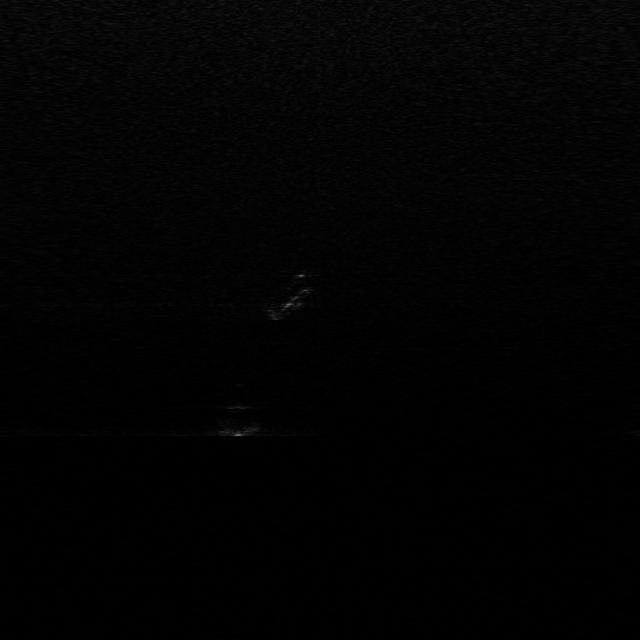ball: (214, 397, 267, 436)
tyre: (264, 274, 310, 323)
